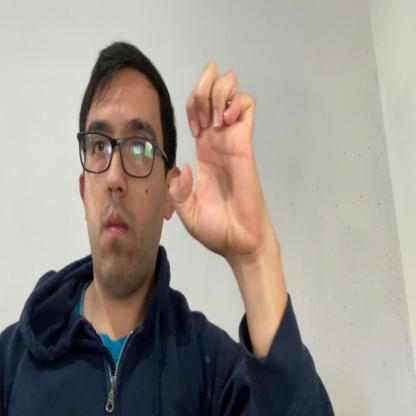E: (169, 58, 264, 254)
